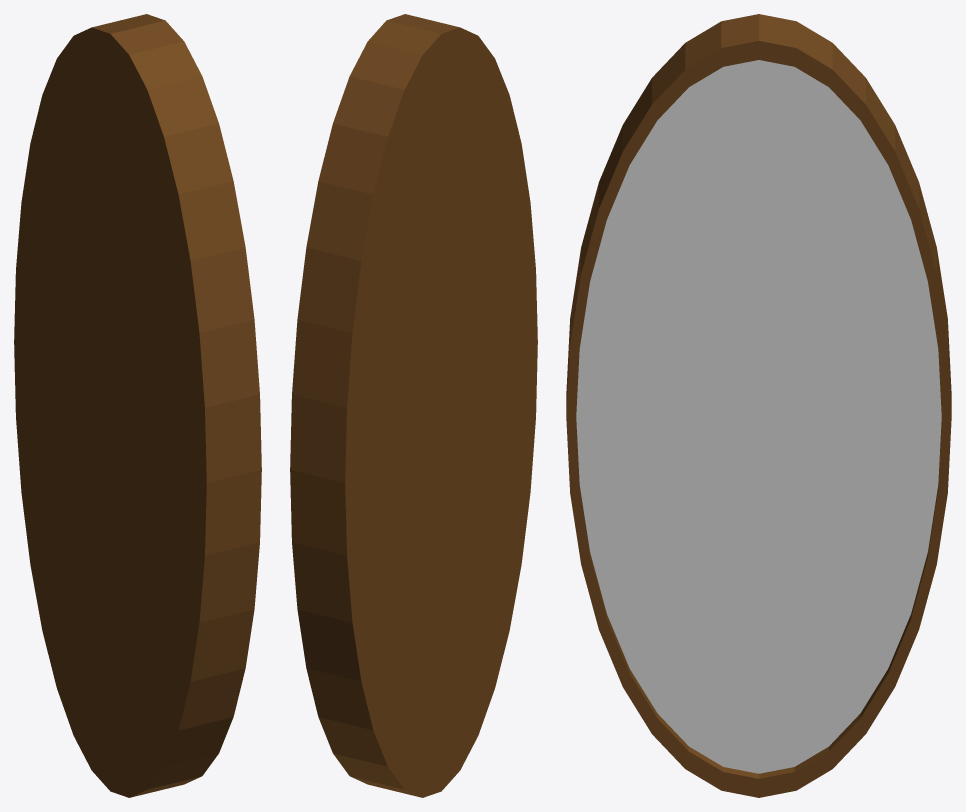
File: Mirror.fbx
3 renders of one model, left to right at view 1: azimuth 30°, elevation 25°; view 2: azimuth 150°, elevation 25°; view 3: azimuth 270°, elevation 25°, orthographic.
Parts seen in each view (by area): view 1: Cylinder; view 2: Cylinder; view 3: Cylinder.
Part boxes in pixels (x1,y1,x2,y2): Cylinder: [14, 14, 261, 797]; Cylinder: [290, 14, 537, 797]; Cylinder: [566, 14, 951, 797].
Size of the model in its own units: 33.02 by 434 by 200.
